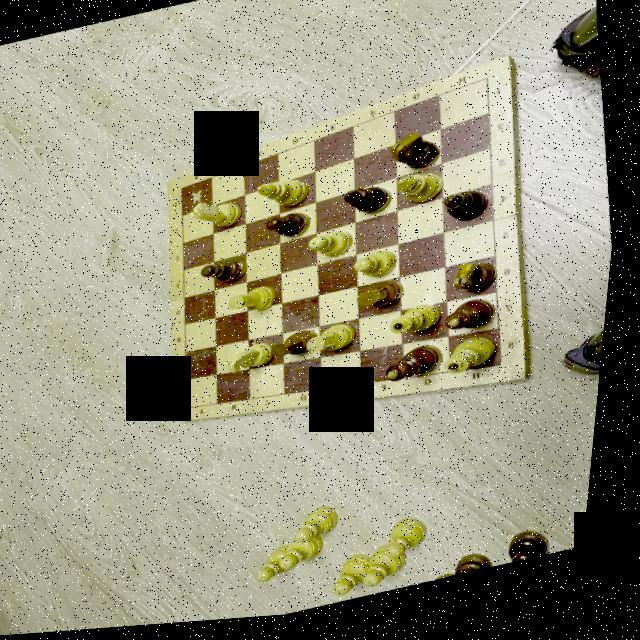chess-table-corners: (189, 407, 200, 418), (483, 82, 492, 91), (180, 188, 190, 196), (504, 370, 514, 378)
